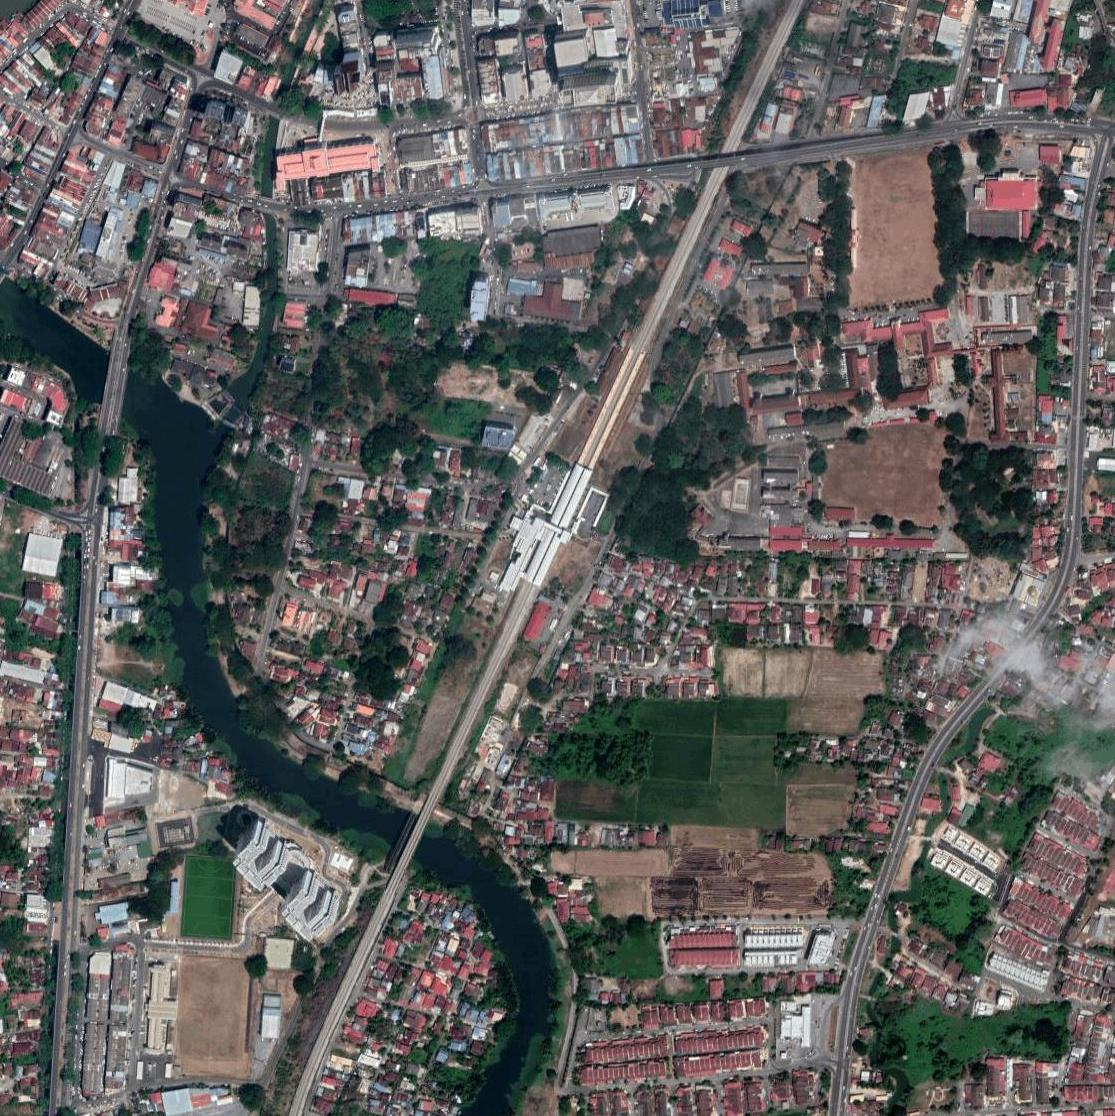train_station: (505, 458, 596, 621)
